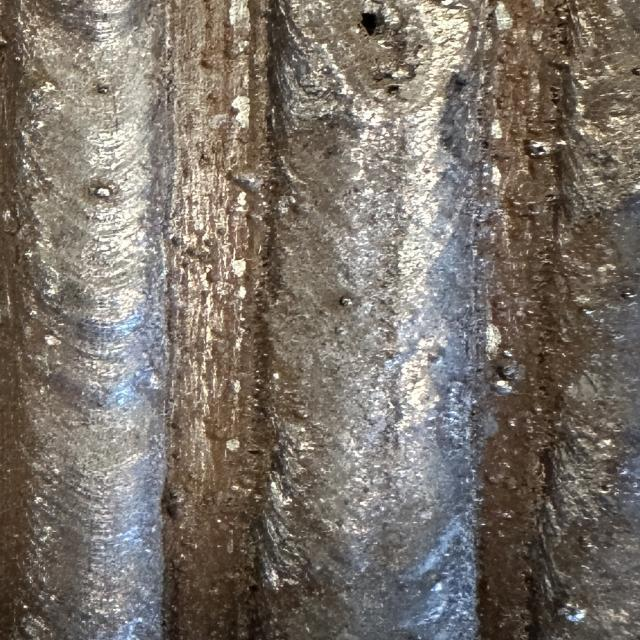Excess Reinforcement: (485, 324, 502, 358)
Porosity: (360, 11, 385, 34), (385, 84, 400, 94)
Spatters: (526, 139, 567, 158), (557, 604, 587, 622), (502, 360, 525, 381), (90, 185, 113, 198), (494, 380, 513, 395), (597, 264, 617, 272), (620, 290, 637, 299), (95, 84, 110, 94), (215, 225, 228, 236), (203, 238, 217, 248), (340, 296, 353, 306), (0, 32, 8, 48), (2, 209, 12, 220), (23, 249, 33, 260), (172, 236, 183, 246), (630, 66, 640, 76), (500, 512, 512, 519), (533, 405, 542, 414), (560, 336, 570, 344), (538, 385, 547, 393), (190, 542, 198, 550), (80, 619, 88, 627), (582, 306, 588, 313)
